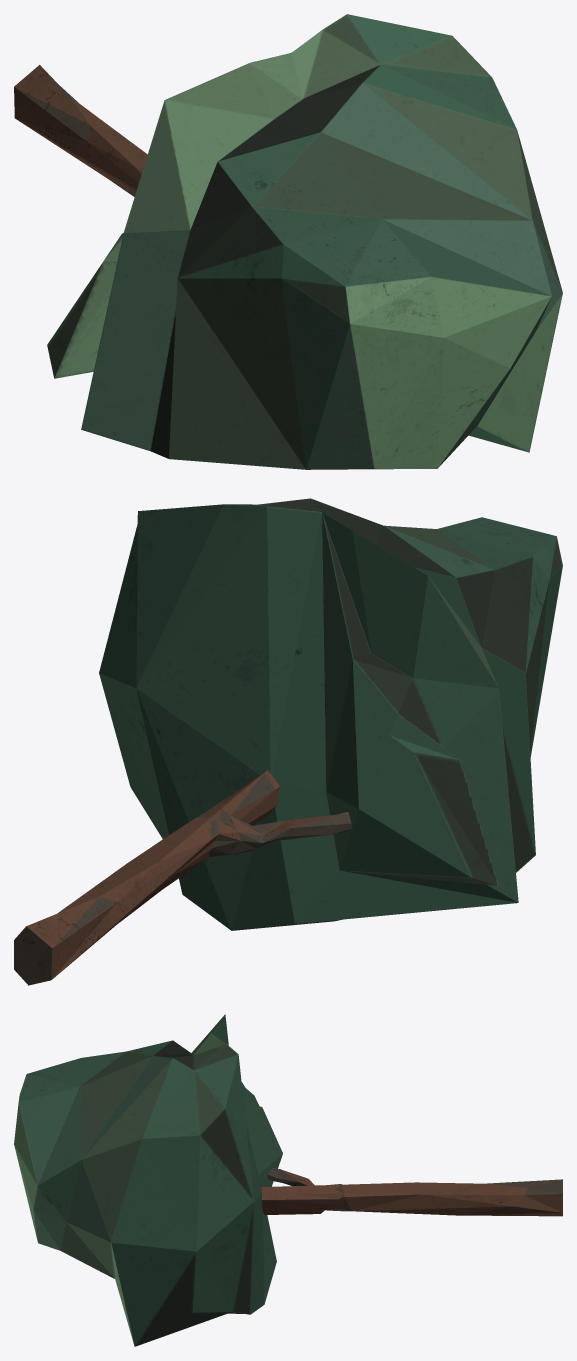
Rendered from tree1.obj.
The picture shows the model from 3 angles, top to bottom: view 1: azimuth 30°, elevation 25°; view 2: azimuth 150°, elevation 25°; view 3: azimuth 270°, elevation 25°; orthographic projection. The views are drawn at different scales.
Parts seen in each view (by area): view 1: Object.1; view 2: Object.1; view 3: Object.1.
Part boxes in pixels (box(x1,y1,x2,y2)): Object.1: box(14, 14, 562, 469); Object.1: box(14, 498, 562, 985); Object.1: box(14, 1014, 562, 1346).
Bounding box in the file's own units: 143 × 126 × 239.
1 material, 1 textured.
